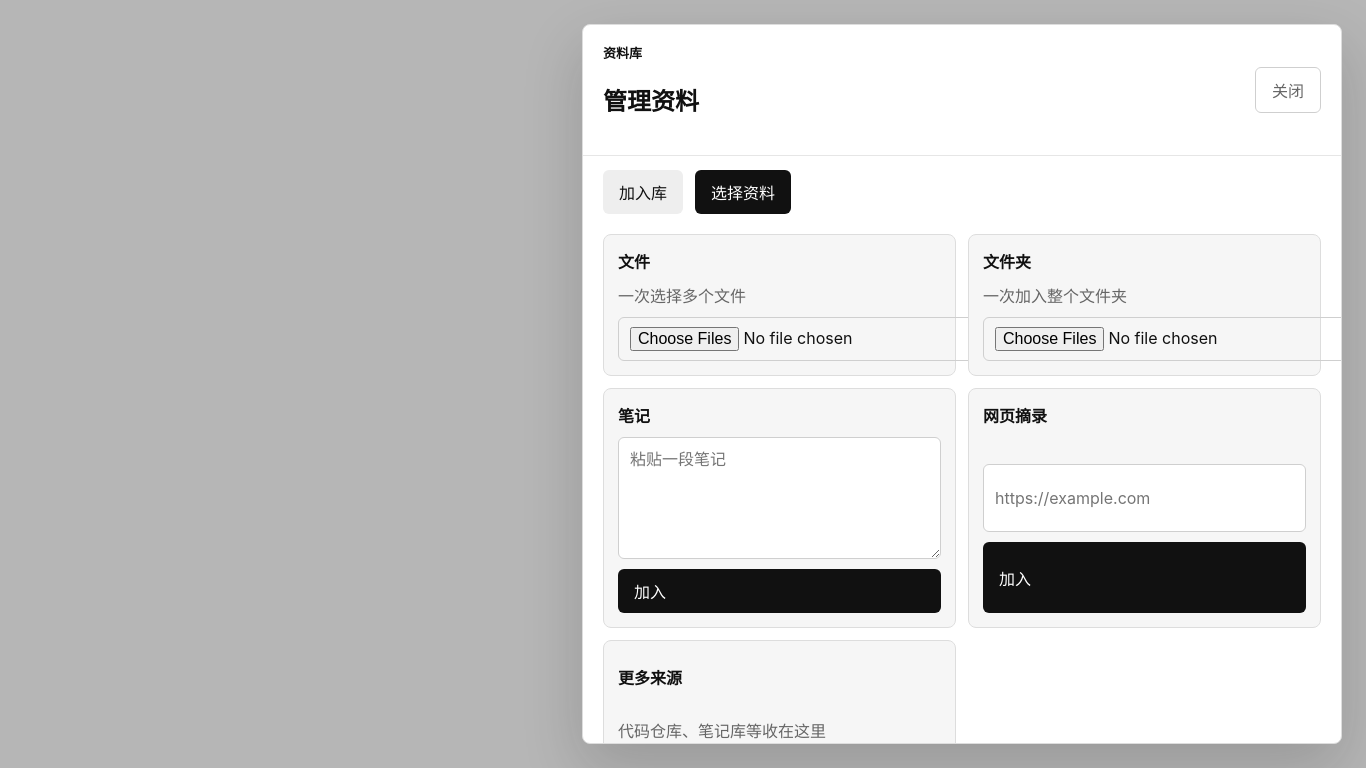
LibraryModal › keeps advanced sources behind the more sources card
The width and height of the screenshot is (1366, 768).
expect the text "GitHub 仓库" is not shown: met
expect the text "Notion" is not shown: met
Click the button "更多来源 代码仓库、笔记库等收在这里" at (650, 678), box [603,640,956,766]
(page scrolled)
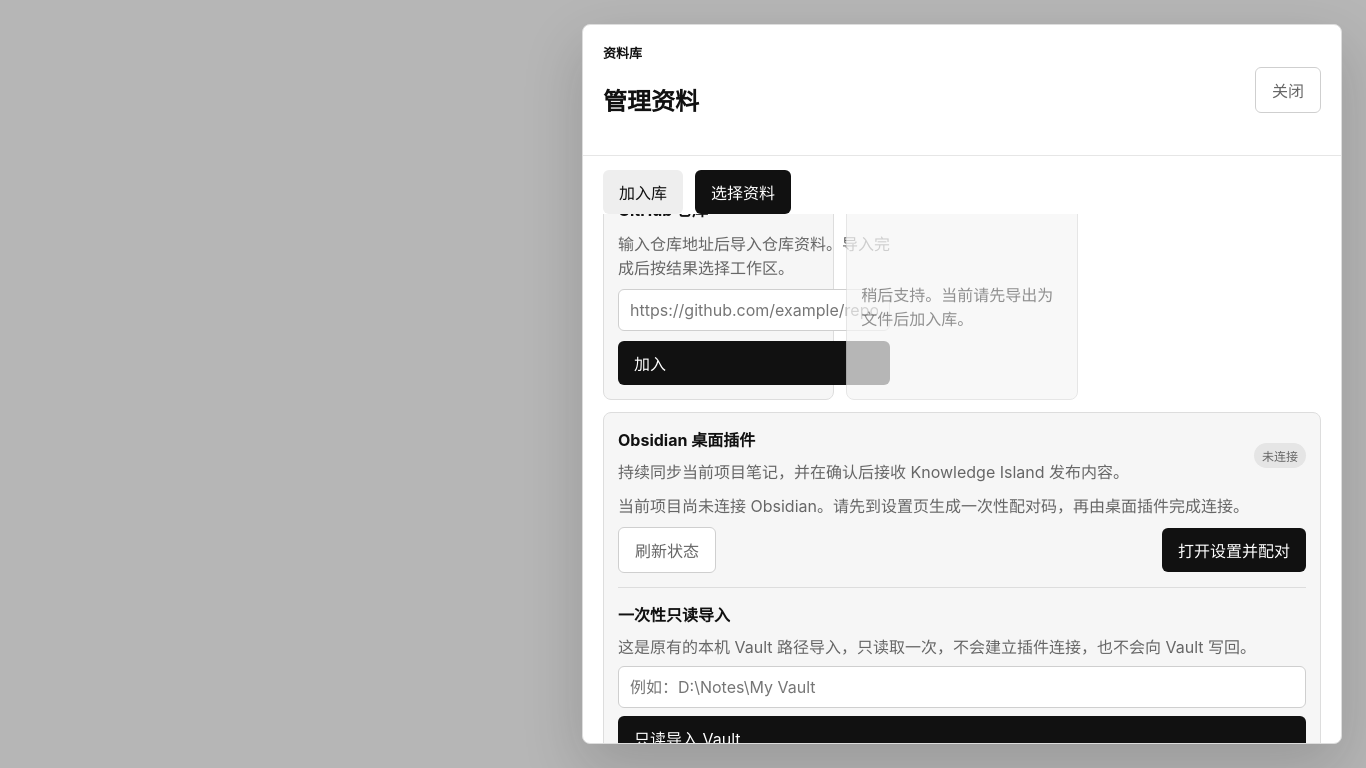
expect the text "Obsidian" is shown: met, box [618,430,755,450]
expect the element that starts with "GitHub 仓库" is shown: met, box [603,214,1321,743]
